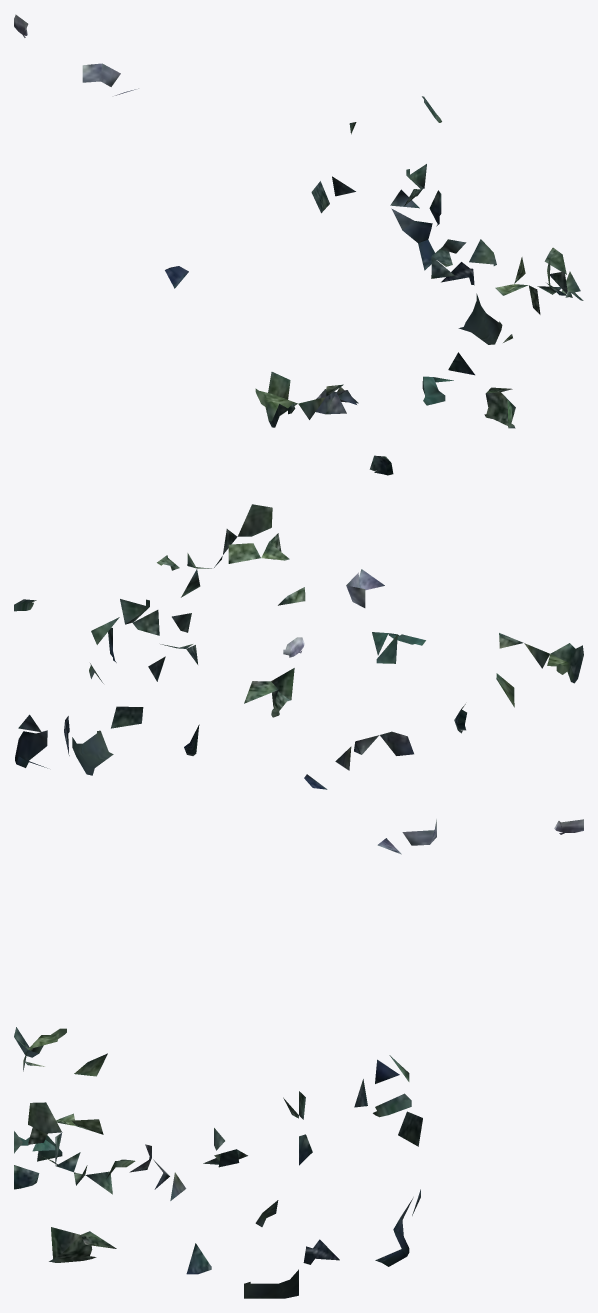
3 renders of one model, top to bottom at view 1: azimuth 30°, elevation 25°; view 2: azimuth 150°, elevation 25°; view 3: azimuth 270°, elevation 25°, orthographic. The views are drawn at different scales.
Parts seen in each view (by area): view 1: 30436272704361707515_1; view 2: 30436272704361707515_1; view 3: 30436272704361707515_1.
Part boxes in pixels (<box>): 30436272704361707515_1: <box>14,14,583,475</box>; 30436272704361707515_1: <box>14,504,583,789</box>; 30436272704361707515_1: <box>14,819,583,1298</box>.
Size of the model in its own units: 27.31 by 23.12 by 38.25.
1 material, 1 textured.
